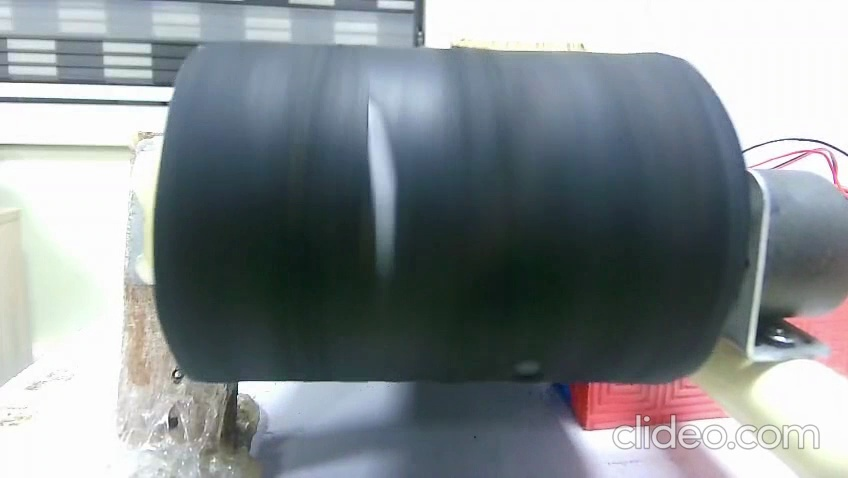hole: (510, 360, 544, 382)
tear: (357, 90, 403, 278)
